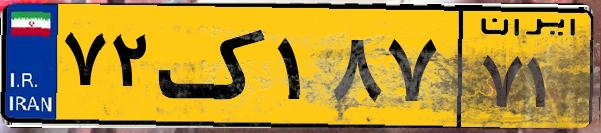1: (270, 28, 330, 110), (525, 38, 570, 115)
2: (110, 28, 158, 98)
7: (385, 28, 445, 110), (57, 26, 110, 100), (475, 38, 525, 113)
8: (330, 28, 385, 110)
ک: (158, 12, 270, 120)
